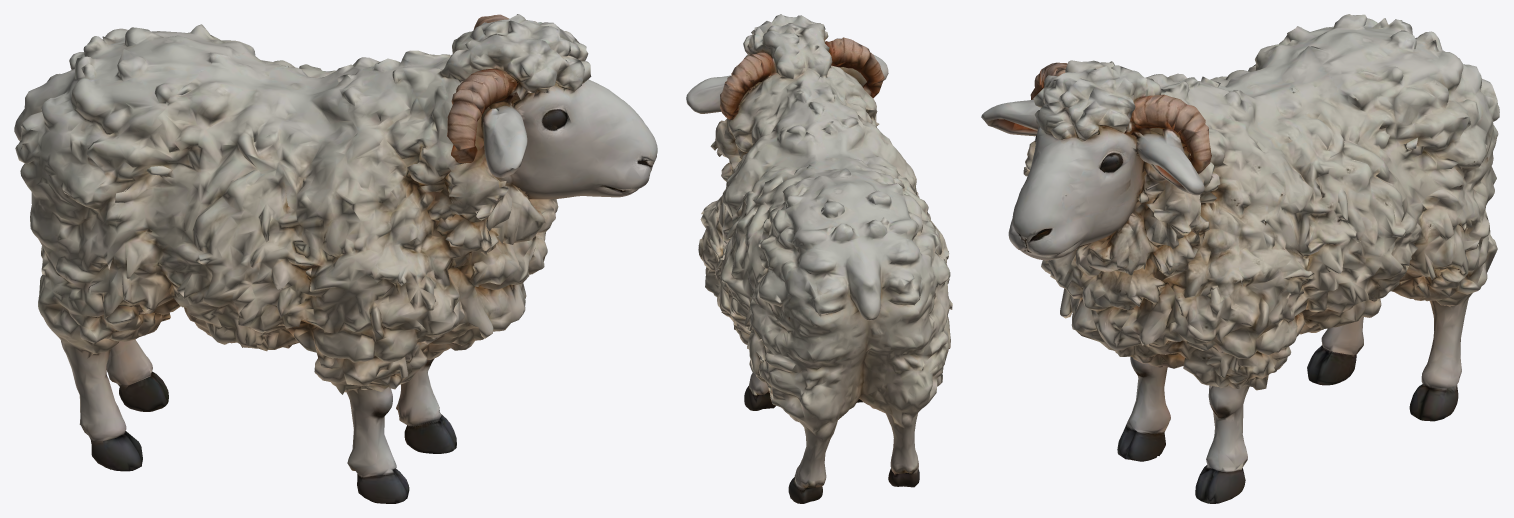
The model's file is sheep_tripo_static.glb.
The picture shows the model from 3 angles, left to right: view 1: azimuth 30°, elevation 25°; view 2: azimuth 150°, elevation 25°; view 3: azimuth 270°, elevation 25°; orthographic projection. The views are drawn at different scales.
Visible parts, largest first — view 1: tripo_node_cb4c9207-c177-40bb-9c4a-4e14851fd965; view 2: tripo_node_cb4c9207-c177-40bb-9c4a-4e14851fd965; view 3: tripo_node_cb4c9207-c177-40bb-9c4a-4e14851fd965.
Boxes of the visible parts, x1,y1,x2,y2 form: tripo_node_cb4c9207-c177-40bb-9c4a-4e14851fd965: (14,14,657,503); tripo_node_cb4c9207-c177-40bb-9c4a-4e14851fd965: (686,14,952,503); tripo_node_cb4c9207-c177-40bb-9c4a-4e14851fd965: (981,14,1499,503).
Size of the model in its own units: 0.9055 by 0.9124 by 0.9792.
Materials: 1 (1 with a texture image).
